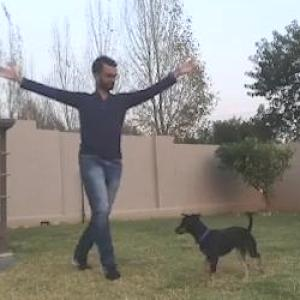takeoff: (2, 34, 208, 286)
